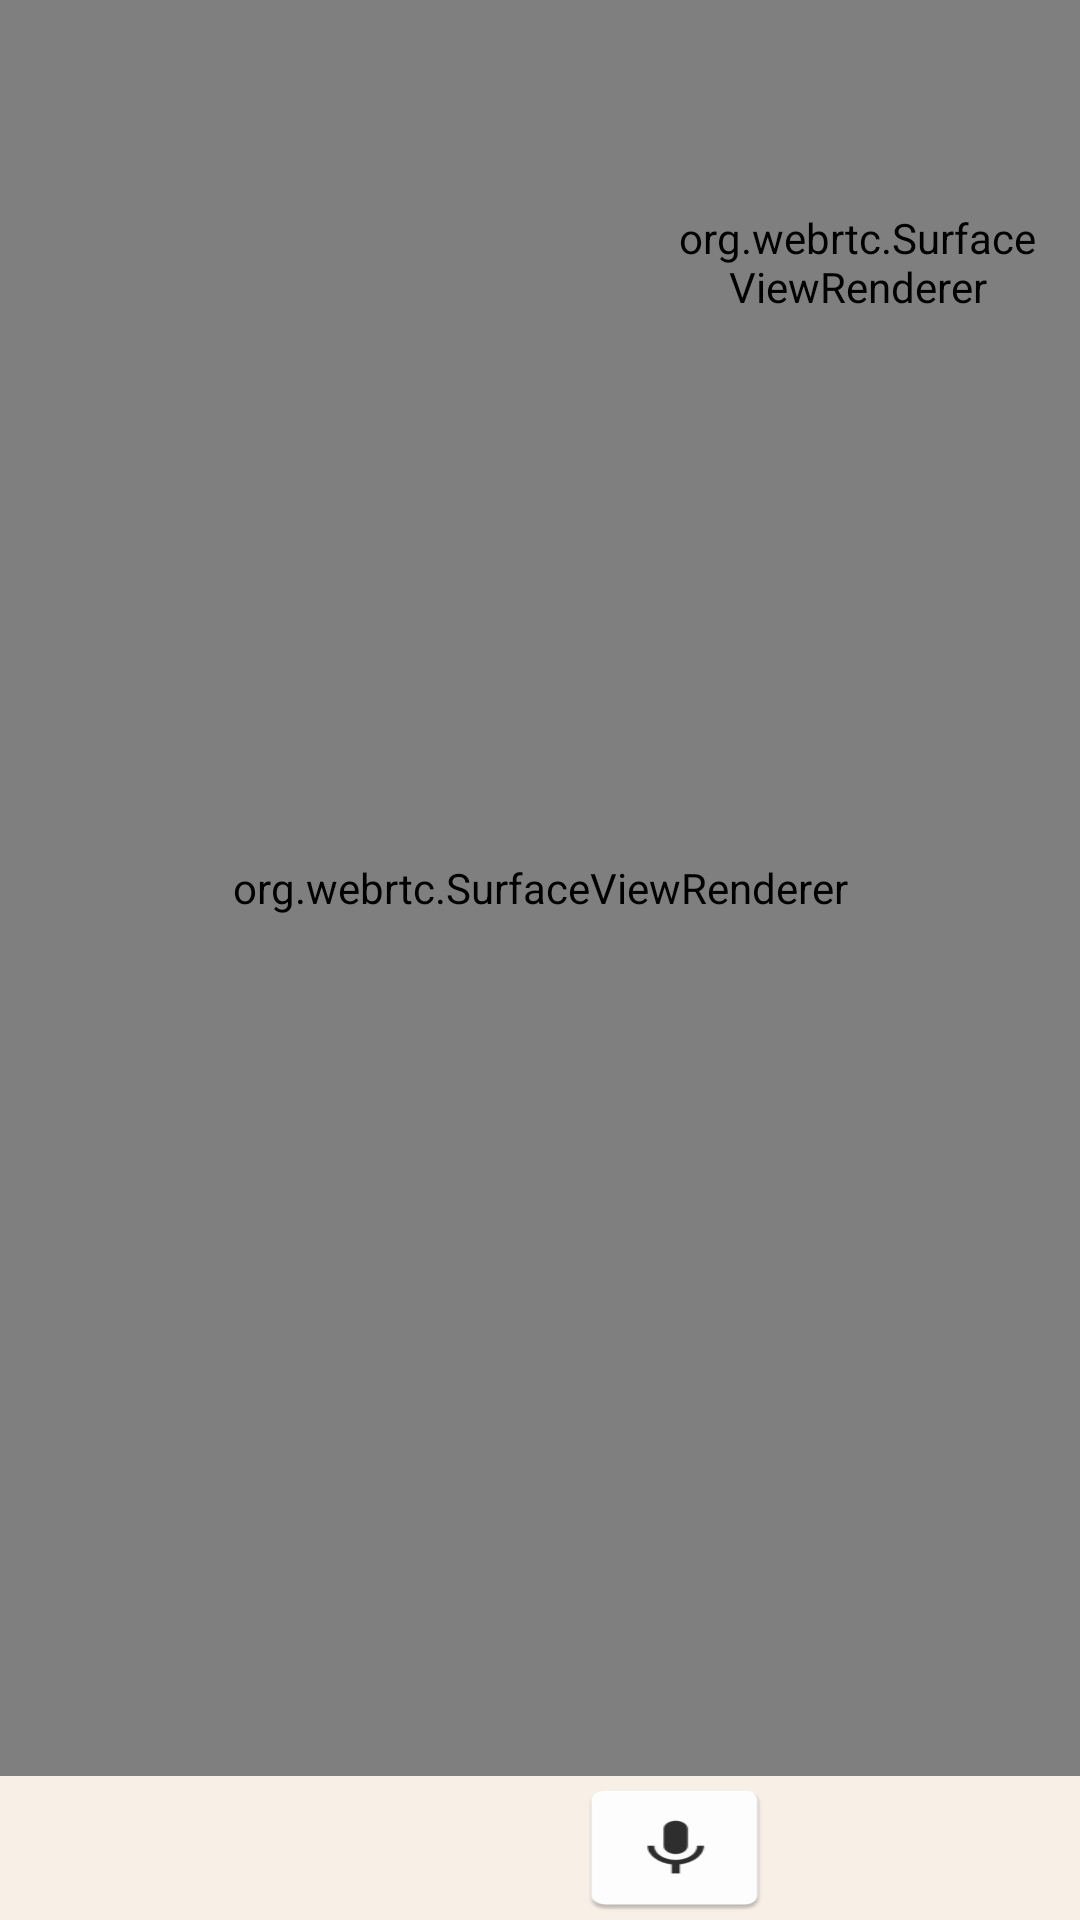

Named icons in this screenshot (1080px x 1920px) and their centers, (x=x, y=y):
call mic on: (x=675, y=1850)
